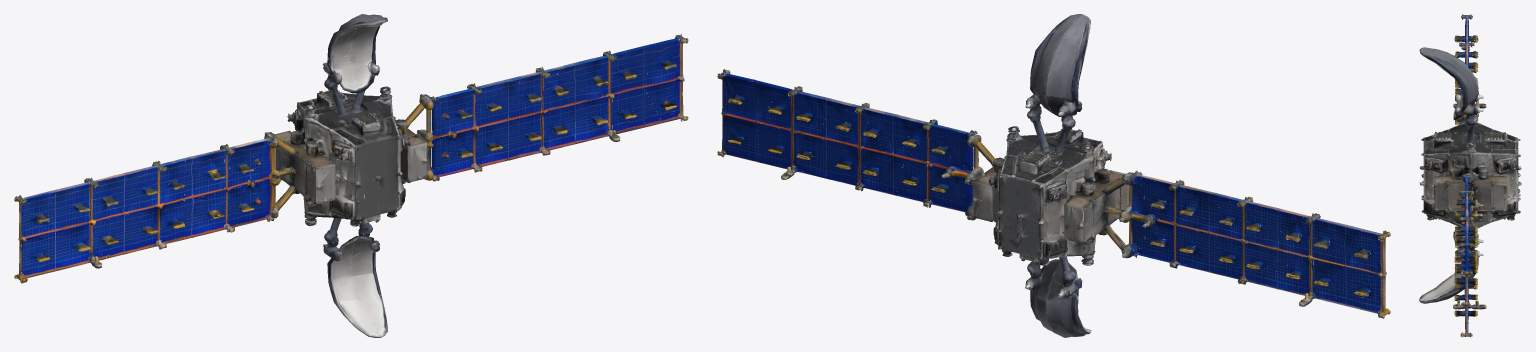
The model's file is solar_satellite-v3.glb.
3 renders of one model, left to right at view 1: azimuth 30°, elevation 25°; view 2: azimuth 150°, elevation 25°; view 3: azimuth 270°, elevation 25°, orthographic. The views are drawn at different scales.
Parts seen in each view (by area): view 1: tripo_node_45d77255-8681-477f-b656-15046fe1d42a; view 2: tripo_node_45d77255-8681-477f-b656-15046fe1d42a; view 3: tripo_node_45d77255-8681-477f-b656-15046fe1d42a.
Part boxes in pixels (x1,y1,x2,y2): tripo_node_45d77255-8681-477f-b656-15046fe1d42a: [14, 14, 688, 337]; tripo_node_45d77255-8681-477f-b656-15046fe1d42a: [717, 14, 1390, 337]; tripo_node_45d77255-8681-477f-b656-15046fe1d42a: [1419, 14, 1521, 337].
Size of the model in its own units: 0.9865 by 0.4471 by 0.1652.
Materials: 1 (1 with a texture image).
